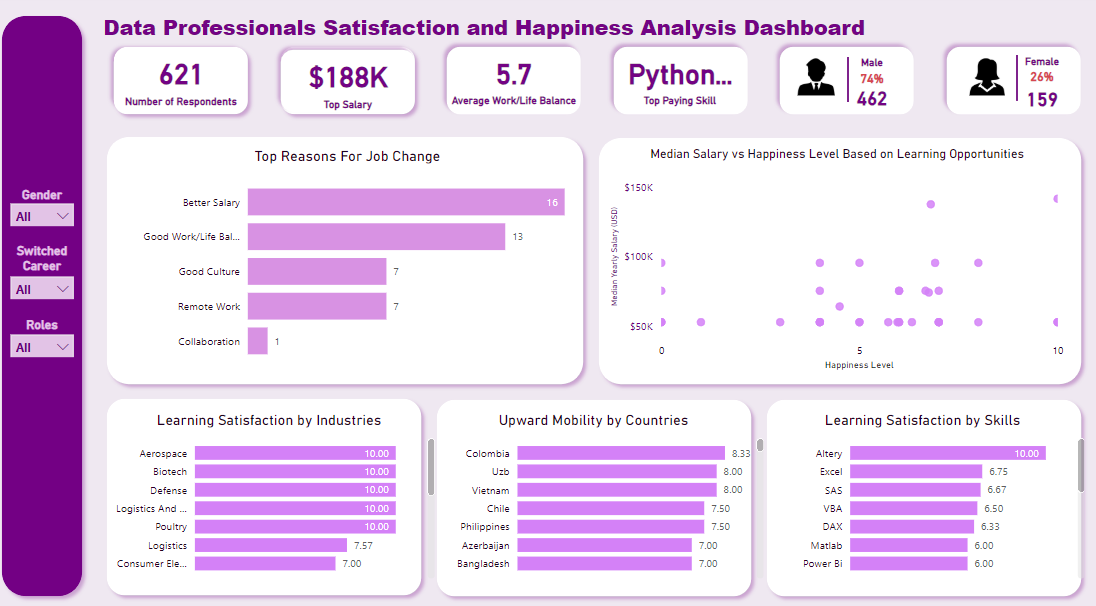

What the dashboard file says about the page in this screenshot:
{"tool":"powerbi","page":{"name":"Workers Satisfaction and Happiness Analysis","canvas":[1280,720],"ordinal":3},"visuals":[{"type":"shape","box":[0,15,111.1,689.9],"z":0},{"type":"shape","box":[121.5,155.1,569.5,304.4],"z":1000},{"type":"shape","box":[121.5,458.4,382,245.4],"z":2000},{"type":"textbox","box":[121.5,15,912.2,44],"z":3000},{"type":"shape","box":[503.5,459.5,382,245.4],"z":4000},{"type":"shape","box":[885.5,459.5,382,245.4],"z":5000},{"type":"shape","box":[691.1,156.3,576.5,303.3],"z":6000},{"type":"group","id":"g1","title":"Group 2","box":[130.2,50.8,173.2,96],"z":8000},{"type":"group","id":"g2","title":"Group 2","box":[322.9,50.8,173.2,96],"z":9000},{"type":"textbox","box":[139.3,108.1,155,37.8],"z":9000,"group":"g3"},{"type":"shape","box":[515.6,50.8,173.2,96.4],"z":10000},{"type":"shape","box":[708.4,50.8,173.2,96.4],"z":11000},{"type":"shape","box":[901.1,50.8,173.2,96.4],"z":12000},{"type":"shape","box":[1093.8,50.8,173.2,96.4],"z":13000},{"type":"card","title":"Number of Respondents","fields":{"Values":["Measures Table.top salary"]},"box":[345.1,63.8,130.2,58.6],"z":14000},{"type":"shape","box":[130.2,54.4,173.2,89.9],"z":14500,"group":"g1"},{"type":"card","title":"Number of Respondents","fields":{"Values":["Measures Table.Number of respondents"]},"box":[152.3,59.9,130.2,58.6],"z":15000,"group":"g3"},{"type":"card","title":"Number of Respondents","fields":{"Values":["Measures Table.Average work/life balance"]},"box":[536.5,59.9,130.2,58.6],"z":15000},{"type":"shape","box":[130.2,50.8,173.2,96],"z":16000,"group":"g1"},{"type":"shape","box":[322.9,50.8,173.2,96],"z":16000,"group":"g2"},{"type":"card","title":"Number of Respondents","fields":{"Values":["Measures Table.Top paying skill"]},"box":[729.2,59.9,130.2,58.6],"z":16000},{"type":"shape","box":[322.9,54.4,173.2,89.9],"z":16500,"group":"g2"},{"type":"card","title":"Number of Respondents","fields":{"Values":["Measures Table.Number of male respondents"]},"box":[987.4,94.9,57.9,48.6],"z":17000},{"type":"group","id":"g3","title":"Group 1","box":[139.3,59.9,155,85.9],"z":18000},{"type":"textbox","box":[332,112,155,37.8],"z":19000},{"type":"textbox","box":[515.1,107.7,173.6,38.2],"z":20000},{"type":"textbox","box":[716.2,108.1,155,37.8],"z":21000},{"type":"textbox","box":[986.2,63.7,60.2,32.4],"z":22000},{"type":"card","fields":{"Values":["Measures Table.% male"]},"box":[988.6,77.6,55.6,41.7],"z":23000},{"type":"image","box":[920.3,68.3,63.7,53.2],"z":24000},{"type":"shape","box":[952.7,71.8,71.8,52.1],"z":25000},{"type":"card","fields":{"Values":["Measures Table.% female"]},"box":[1185.5,75.6,55.4,41.6],"z":26000},{"type":"textbox","box":[1183,63,60.5,32.8],"z":27000},{"type":"shape","box":[1148.3,69.5,71.8,53.2],"z":28000},{"type":"card","title":"Number of Respondents","fields":{"Values":["Measures Table.Number of female respondents"]},"box":[1184.3,95.7,58,49.1],"z":29000},{"type":"image","box":[1118.2,68.3,62.5,53.2],"z":30000},{"type":"barChart","title":"Top Reasons For Job Change","fields":{"Category":["Data Professional Survey.Q8 - If you were to look for a new job today, what would be the most important thing to you?"],"Y":["CountNonNull(Data Professional Survey.Q8 - If you were to look for a new job today, what would be the most important thi"]},"box":[152.9,176.1,512.8,262.2],"z":31000},{"type":"barChart","title":"Learning Satisfaction by Industries","fields":{"Category":["Data Professional Survey.Q4 - What Industry do you work in?"],"Y":["Avg(Data Professional Survey.Q6 - How Happy are you in your Current Position with the following? (Learning New Things))"]},"box":[121.5,481.5,393.6,199.1],"z":32000},{"type":"barChart","title":"Upward Mobility by Countries","fields":{"Category":["Data Professional Survey.Q11 - Which Country do you live in?"],"Y":["Avg(Data Professional Survey.Q6 - How Happy are you in your Current Position with the following? (Upward Mobility))"]},"box":[492,481.5,404,199.1],"z":33000},{"type":"scatterChart","title":"Median Salary vs Happiness Level Based on Learning Opportunities","fields":{"Category":["Data Professional Survey.Q1 - Which Title Best Fits your Current Role?"],"Y":["Measures Table.median salary"],"X":["Avg(Data Professional Survey.Q6 - How Happy are you in your Current Position with the following? (Learning New Things))"]},"box":[708.4,175.9,534.8,262.8],"z":34000},{"type":"barChart","title":"Learning Satisfaction by Skills","fields":{"Category":["Data Professional Survey.Q5 - Favorite Programming Language"],"Y":["Avg(Data Professional Survey.Q6 - How Happy are you in your Current Position with the following? (Learning New Things))"]},"box":[882.1,481.5,385.5,199.1],"z":36000},{"type":"slicer","fields":{"Values":["Data Professional Survey.Q9 - Male/Female?"]},"box":[9.3,231.5,92.6,35.9],"z":37000},{"type":"slicer","fields":{"Values":["Data Professional Survey.Q2 - Did you switch careers into Data?"]},"box":[9.3,316,92.6,35.9],"z":38000},{"type":"textbox","box":[9.3,217.6,92.6,27.8],"z":39000},{"type":"textbox","box":[9.3,282.4,92.6,45.1],"z":40000},{"type":"slicer","fields":{"Values":["Data Professional Survey.Q1 - Which Title Best Fits your Current Role?"]},"box":[9.3,383.2,92.6,35.9],"z":41000},{"type":"textbox","box":[9.3,368.1,92.6,28.9],"z":42000}]}

Visuals, with their boxes in screenshot pixels (x1, y1, x2, y2), scaled from the page's 1280x720 canvas onto the 1096x606 screenshot:
shape: bbox=(0, 13, 95, 593)
shape: bbox=(104, 131, 592, 387)
shape: bbox=(104, 386, 431, 592)
textbox: bbox=(104, 13, 885, 50)
shape: bbox=(431, 387, 758, 593)
shape: bbox=(758, 387, 1085, 593)
shape: bbox=(592, 132, 1085, 387)
"Group 2" group: bbox=(111, 43, 260, 124)
"Group 2" group: bbox=(276, 43, 425, 124)
textbox: bbox=(119, 91, 252, 123)
shape: bbox=(441, 43, 590, 124)
shape: bbox=(607, 43, 755, 124)
shape: bbox=(772, 43, 920, 124)
shape: bbox=(937, 43, 1085, 124)
"Number of Respondents" card: bbox=(295, 54, 407, 103)
shape: bbox=(111, 46, 260, 121)
"Number of Respondents" card: bbox=(130, 50, 242, 100)
"Number of Respondents" card: bbox=(459, 50, 571, 100)
shape: bbox=(111, 43, 260, 124)
shape: bbox=(276, 43, 425, 124)
"Number of Respondents" card: bbox=(624, 50, 736, 100)
shape: bbox=(276, 46, 425, 121)
"Number of Respondents" card: bbox=(845, 80, 895, 121)
"Group 1" group: bbox=(119, 50, 252, 123)
textbox: bbox=(284, 94, 417, 126)
textbox: bbox=(441, 91, 590, 123)
textbox: bbox=(613, 91, 746, 123)
textbox: bbox=(844, 54, 896, 81)
card - Measures Table.% male: bbox=(846, 65, 894, 100)
image: bbox=(788, 57, 843, 102)
shape: bbox=(816, 60, 877, 104)
card - Measures Table.% female: bbox=(1015, 64, 1063, 99)
textbox: bbox=(1013, 53, 1065, 81)
shape: bbox=(983, 58, 1045, 103)
"Number of Respondents" card: bbox=(1014, 81, 1064, 122)
image: bbox=(957, 57, 1011, 102)
"Top Reasons For Job Change" barChart: bbox=(131, 148, 570, 369)
"Learning Satisfaction by Industries" barChart: bbox=(104, 405, 441, 573)
"Upward Mobility by Countries" barChart: bbox=(421, 405, 767, 573)
"Median Salary vs Happiness Level Based on Learning Opportunities" scatterChart: bbox=(607, 148, 1064, 369)
"Learning Satisfaction by Skills" barChart: bbox=(755, 405, 1085, 573)
slicer - Data Professional Survey.Q9 - Male/Female?: bbox=(8, 195, 87, 225)
slicer - Data Professional Survey.Q2 - Did you switch careers into Data?: bbox=(8, 266, 87, 296)
textbox: bbox=(8, 183, 87, 207)
textbox: bbox=(8, 238, 87, 276)
slicer - Data Professional Survey.Q1 - Which Title Best Fits your Current Role?: bbox=(8, 323, 87, 353)
textbox: bbox=(8, 310, 87, 334)
